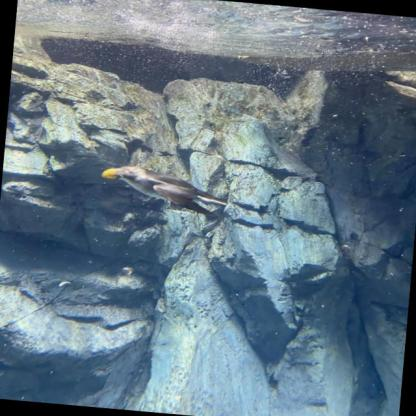puffin: (98, 161, 232, 215)
